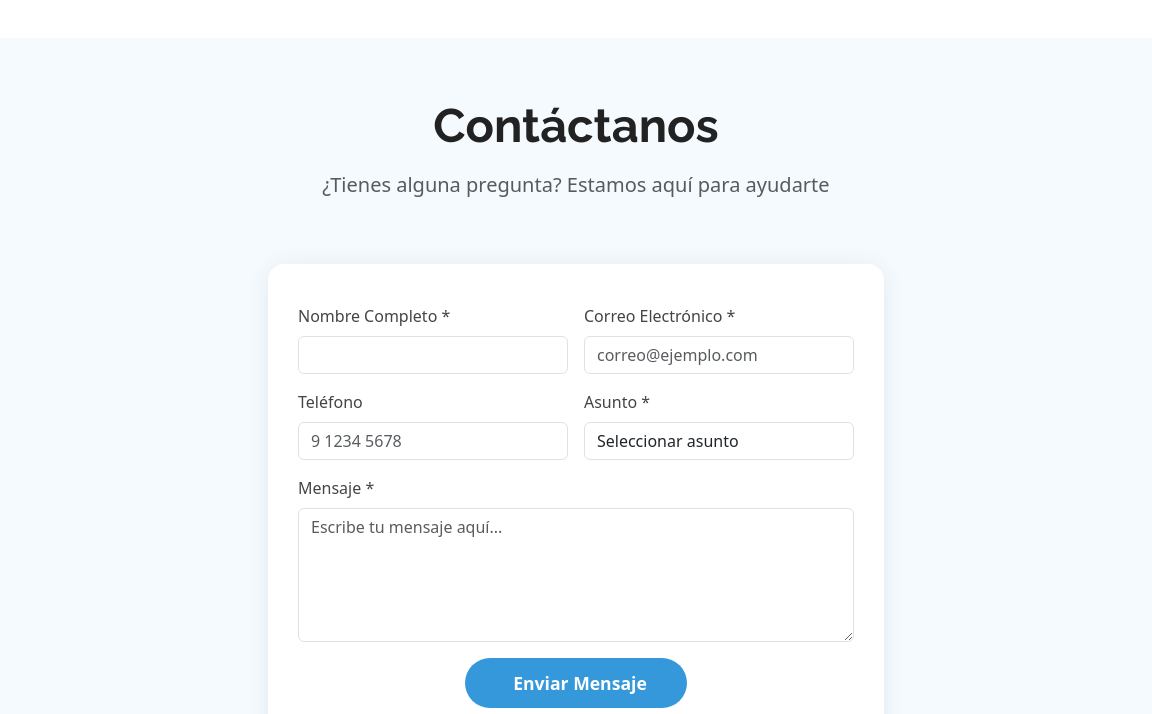
Test: Home.jsx › Formulario de contacto: muestra errores con datos inválidos
(page scrolled)
Type "foo" into the field labelled "Correo Electrónico *" at (719, 355), box [584, 336, 854, 374]
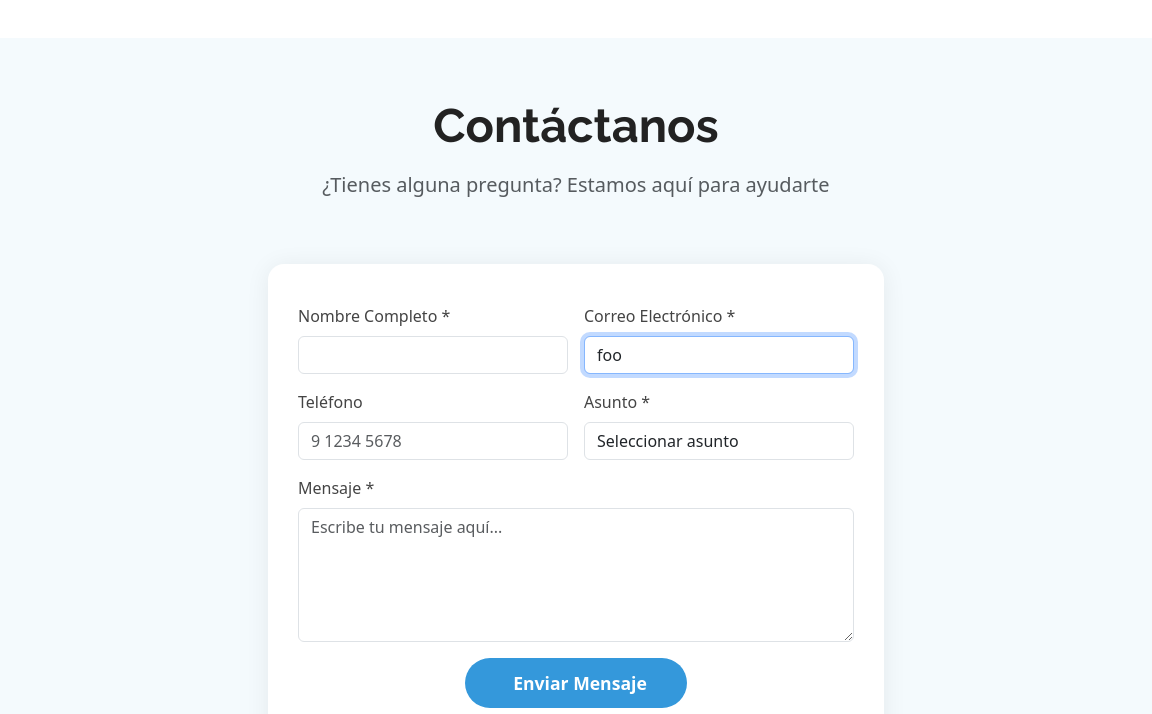
# teléfono inválido
Type "123" into the field labelled "Teléfono" at (433, 441), box [298, 422, 568, 460]
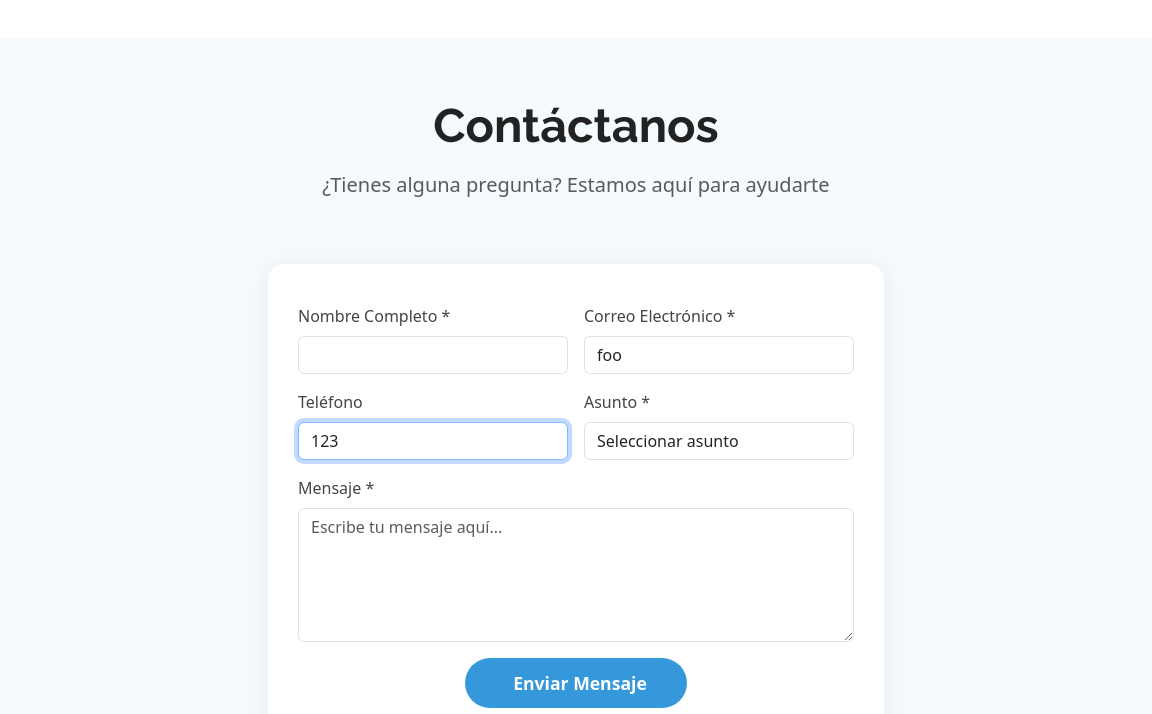
# asunto sin seleccionar (forzamos placeholder)
Select "" in the dropdown labelled "Asunto *" at (719, 441), box [584, 422, 854, 460]
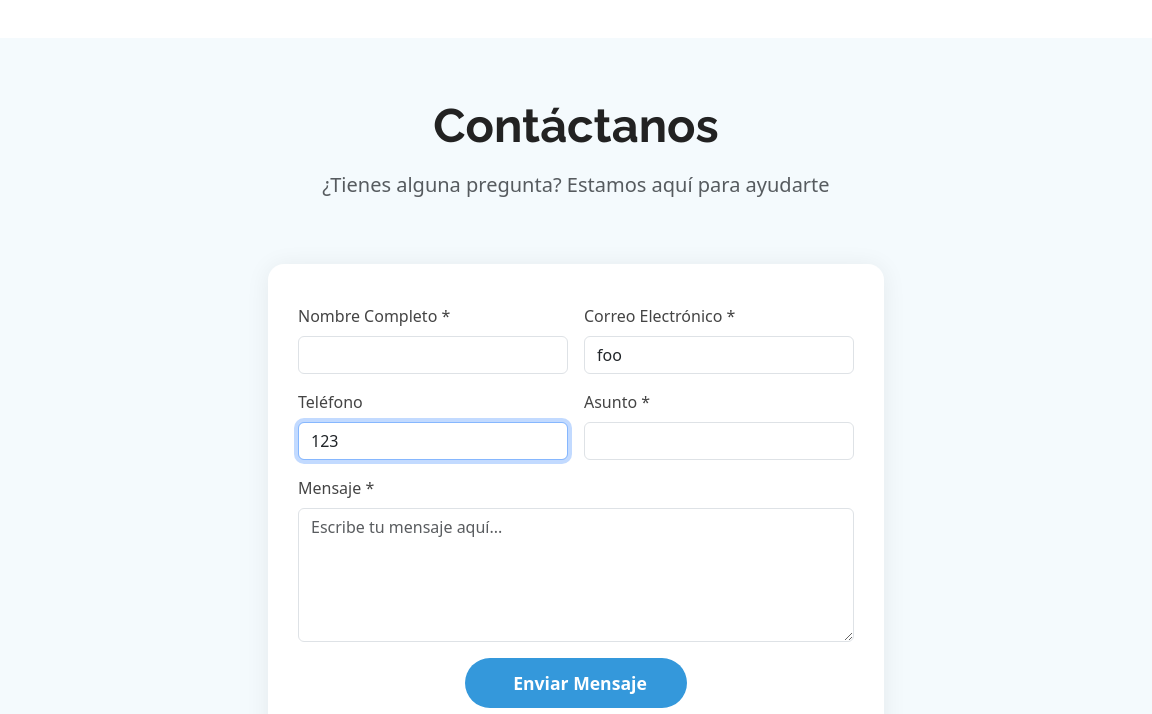
# mensaje corto
Type "hola" into the text box labelled "Mensaje *" at (576, 575), box [298, 508, 854, 642]
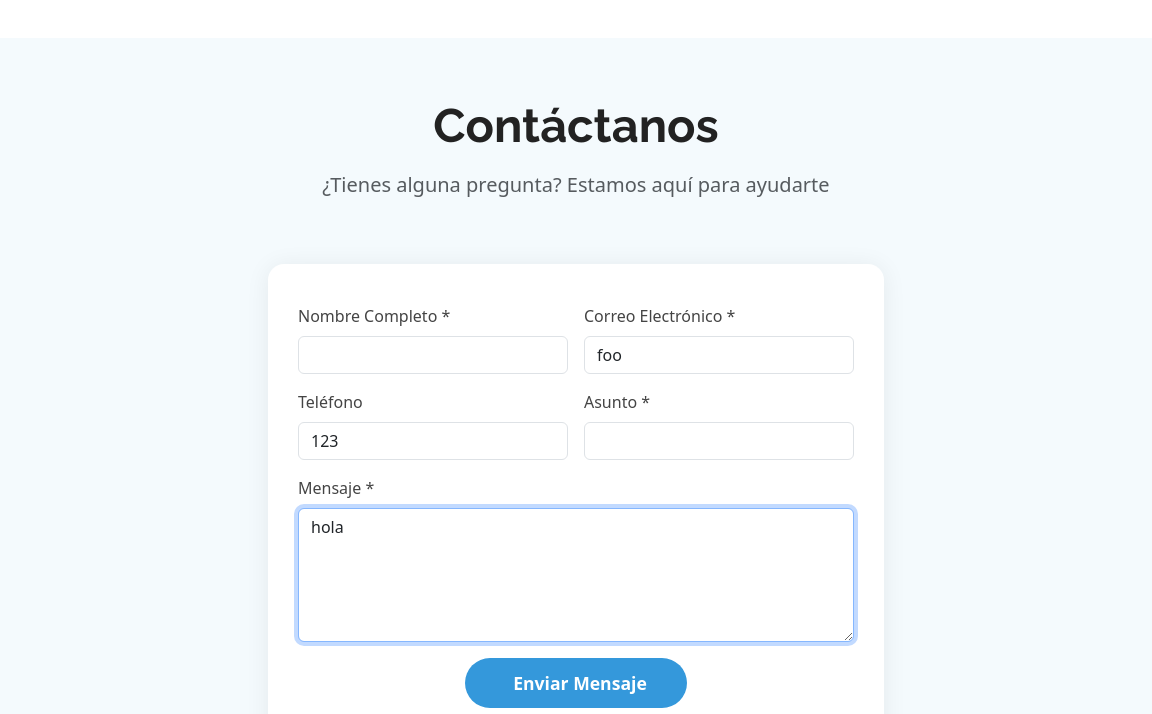
Click the button "Enviar Mensaje" at (576, 683), box [465, 658, 687, 708]
(page scrolled)
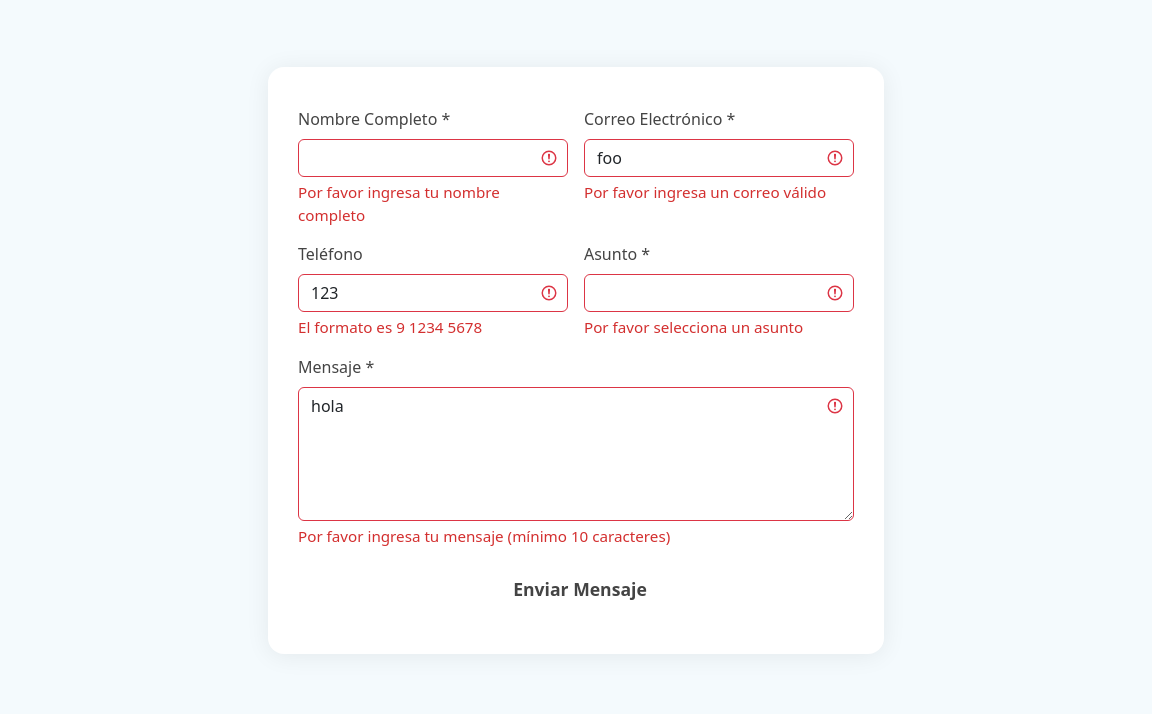
Check: the text "Por favor selecciona un asunto" is shown, box [584, 318, 803, 338]
Check: the text "Por favor ingresa tu nombre completo" is shown, box [298, 182, 500, 225]
Check: the text "Por favor ingresa un correo válido" is shown, box [584, 181, 854, 204]
